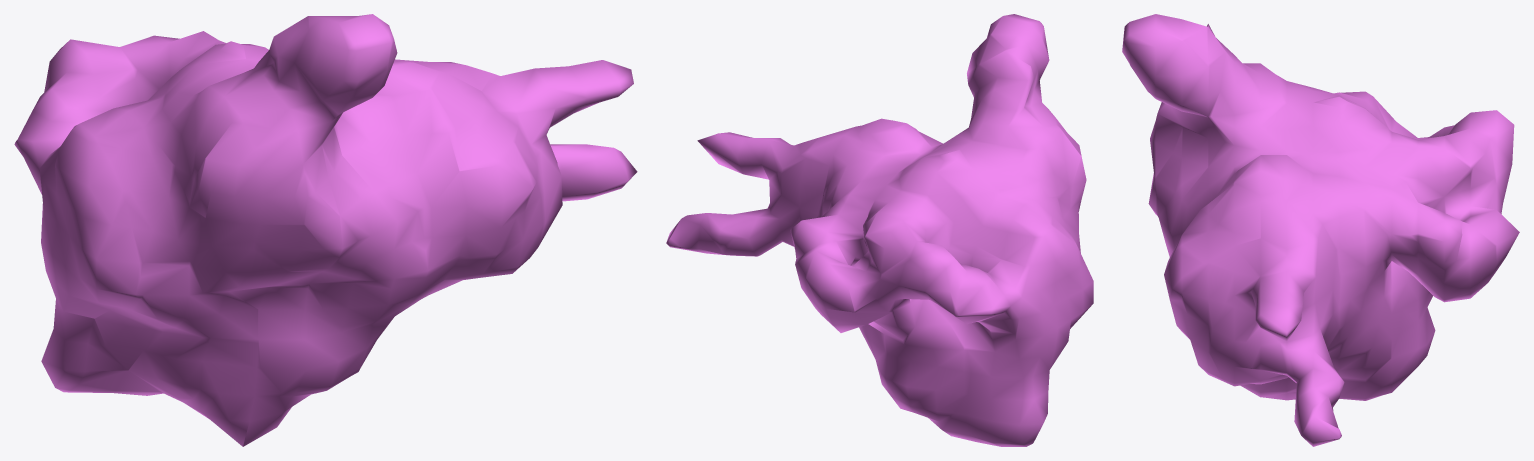
The model's file is Vesicle_32AAligned15.fbx.
3 renders of one model, left to right at view 1: azimuth 30°, elevation 25°; view 2: azimuth 150°, elevation 25°; view 3: azimuth 270°, elevation 25°, orthographic. The views are drawn at different scales.
Parts seen in each view (by area): view 1: vesicle_MeshVes32Mesh; view 2: vesicle_MeshVes32Mesh; view 3: vesicle_MeshVes32Mesh.
Part boxes in pixels (<box>): vesicle_MeshVes32Mesh: <box>14,14,637,446</box>; vesicle_MeshVes32Mesh: <box>666,14,1093,446</box>; vesicle_MeshVes32Mesh: <box>1122,14,1519,446</box>.
Size of the model in its own units: 66.82 by 52.85 by 48.42.
